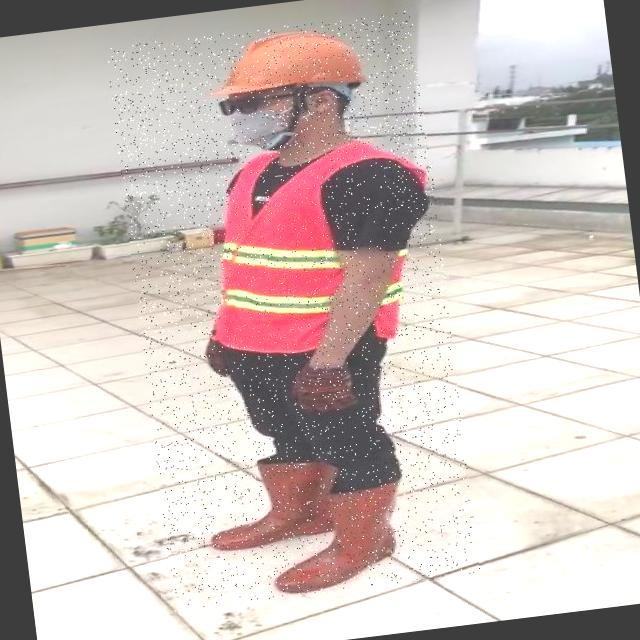boots: (266, 478, 416, 597), (200, 455, 344, 554)
gloves: (266, 328, 380, 445)
helmet: (206, 22, 371, 106)
vest: (199, 129, 452, 360)
